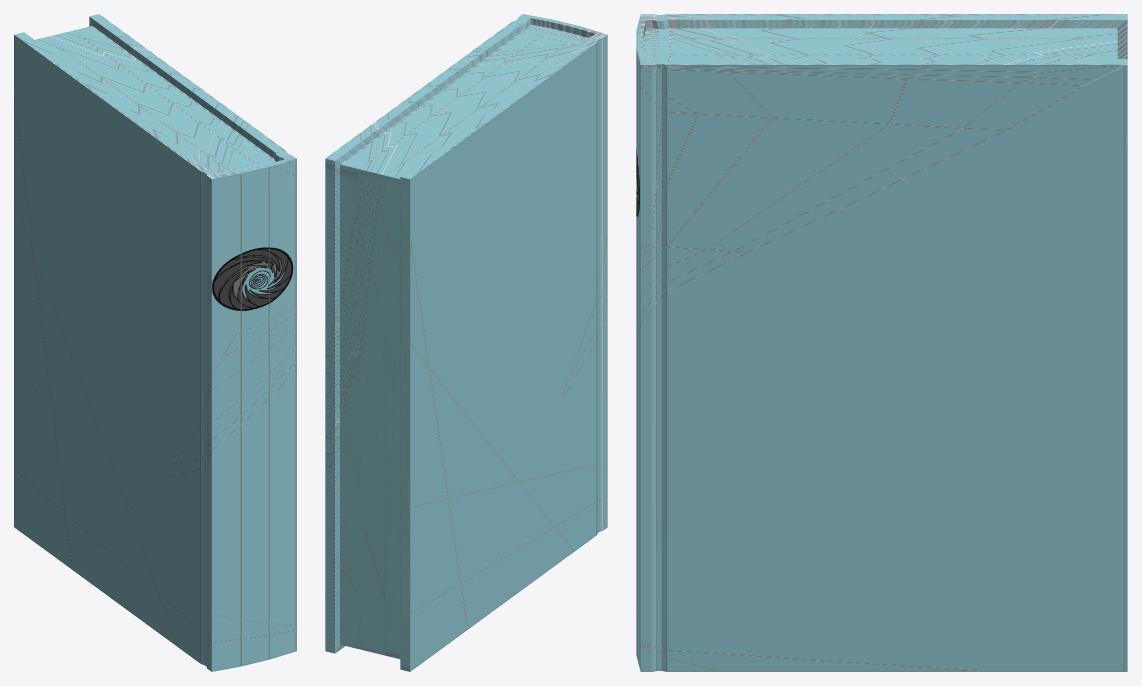
Rendered from book1.fbx.
3 renders of one model, left to right at view 1: azimuth 30°, elevation 25°; view 2: azimuth 150°, elevation 25°; view 3: azimuth 270°, elevation 25°, orthographic. The views are drawn at different scales.
Visible parts, largest first — view 1: Architexture; view 2: Architexture; view 3: Architexture.
Boxes of the visible parts, bbox=[...] form: Architexture: bbox=[14, 14, 296, 671]; Architexture: bbox=[325, 14, 607, 671]; Architexture: bbox=[636, 14, 1127, 671].
Size of the model in its own units: 2.71 by 15 by 11.01.
Materials: 1 (1 with a texture image).
